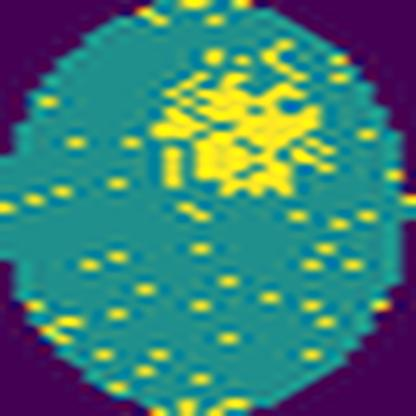Loc: (154, 72, 339, 198)
